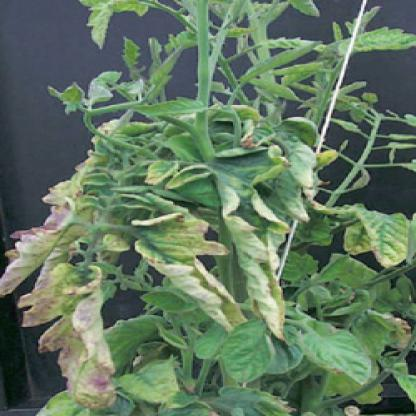tomato leaf yellow virus: (135, 215, 248, 331), (348, 195, 411, 280), (303, 311, 371, 385), (216, 316, 278, 385), (331, 23, 413, 64), (121, 360, 188, 407)
